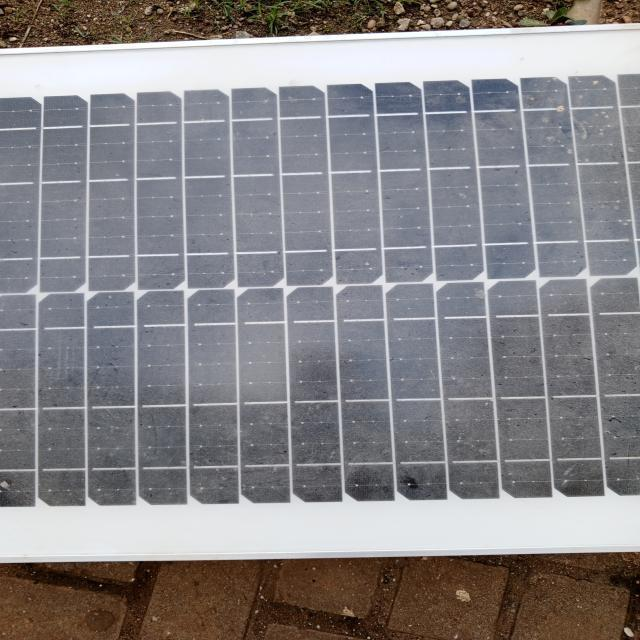Surface Contaminant: (26, 76, 639, 520)
